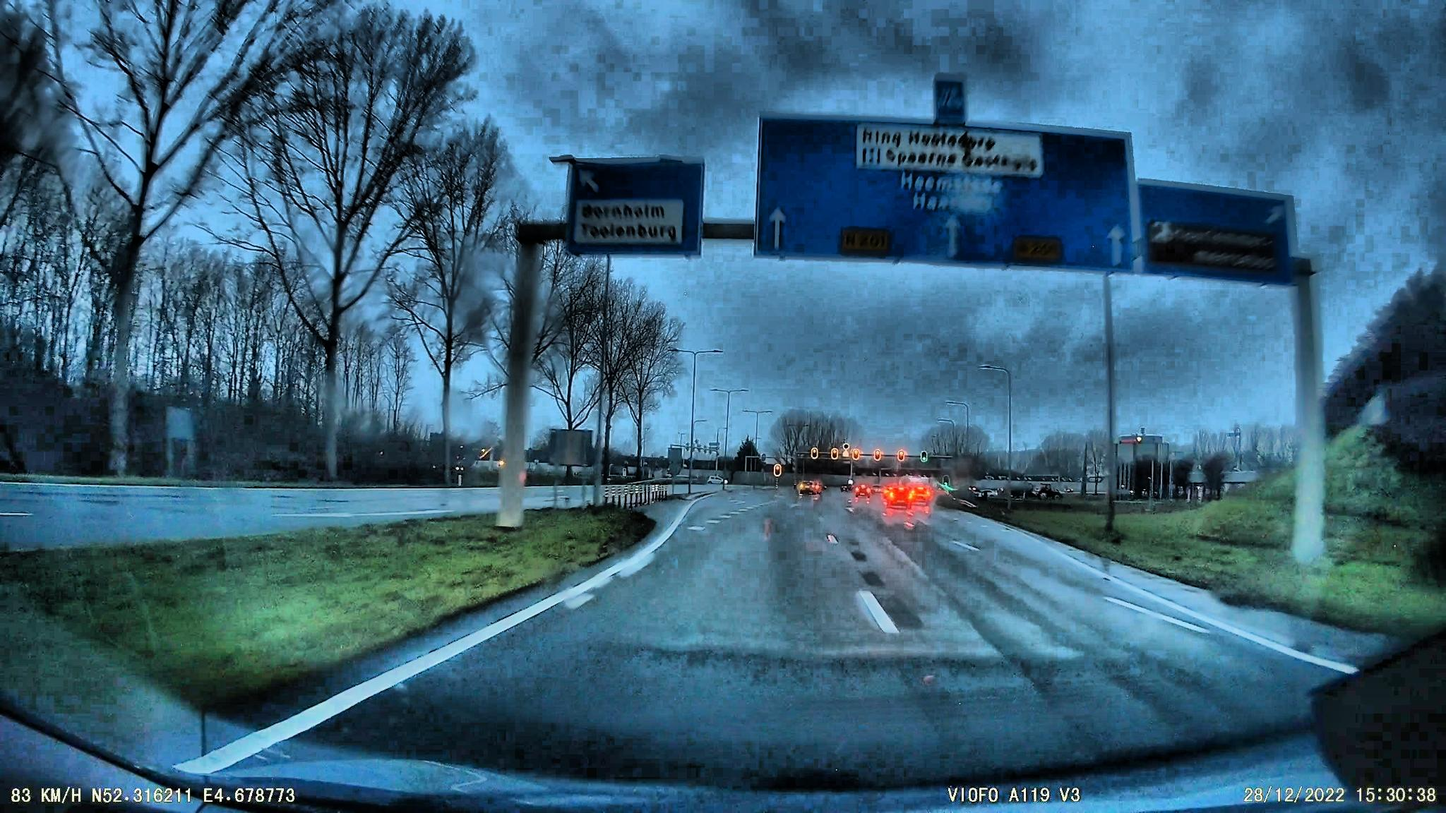Roads: (212, 493, 1382, 813)
